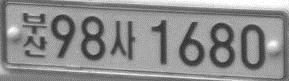0: (239, 22, 265, 71)
1: (148, 19, 171, 65)
6: (178, 20, 205, 67)
8: (208, 21, 236, 68), (79, 15, 106, 61)
9: (50, 13, 76, 59)
부산_V: (22, 12, 48, 57)
사: (110, 20, 136, 60)
